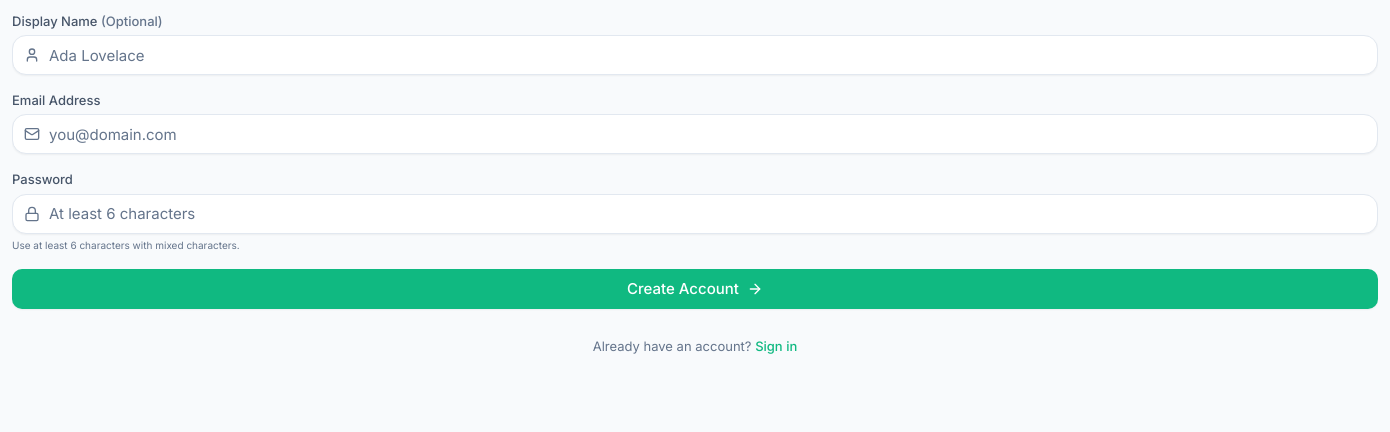
Test: káno̱ Web Authentication & Session Handling › Auth UI Components › renders SignUpForm and validates minimum password length
This screenshot has width=1390, height=432.
Type "test@domain.com" into the field with placeholder "you@domain.com". click: (695, 134)
box: 12,114 -> 1378,154
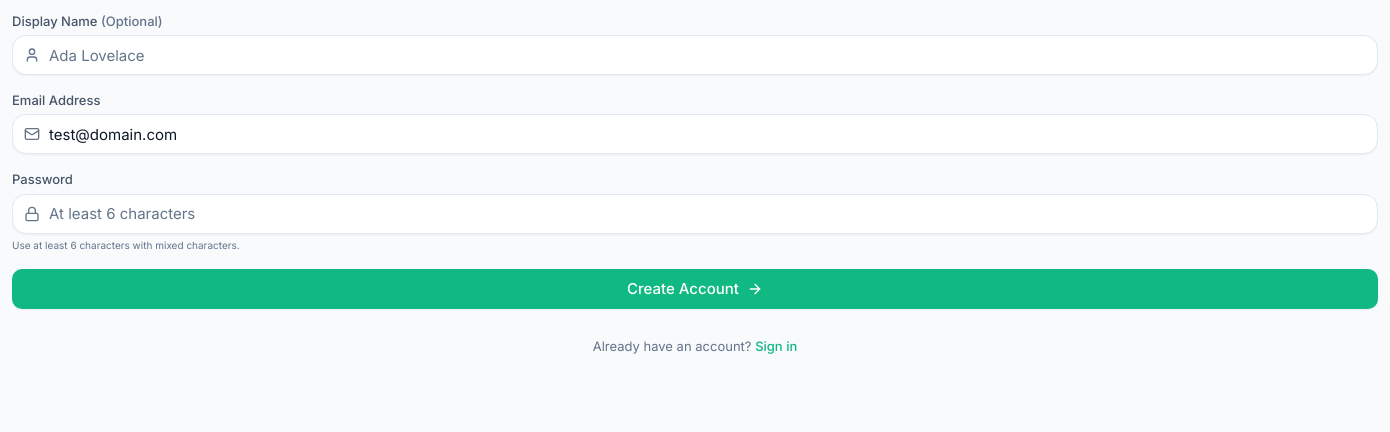
Type "123" into the password field with placeholder "At least 6 characters". click: (695, 214)
box: 12,194 -> 1378,234
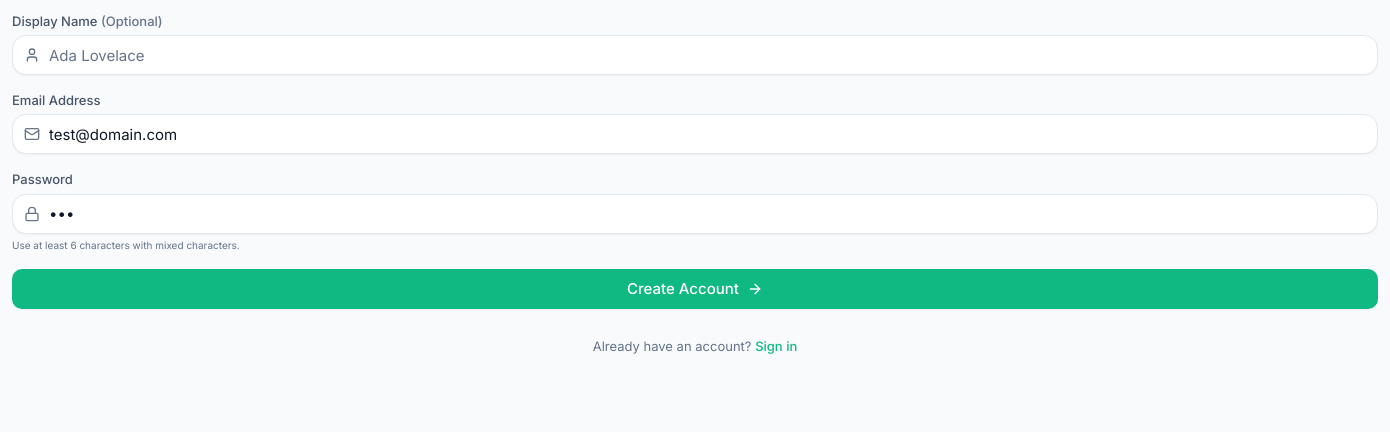
Click the button "Create Account". click: (695, 289)
box: 12,269 -> 1378,309
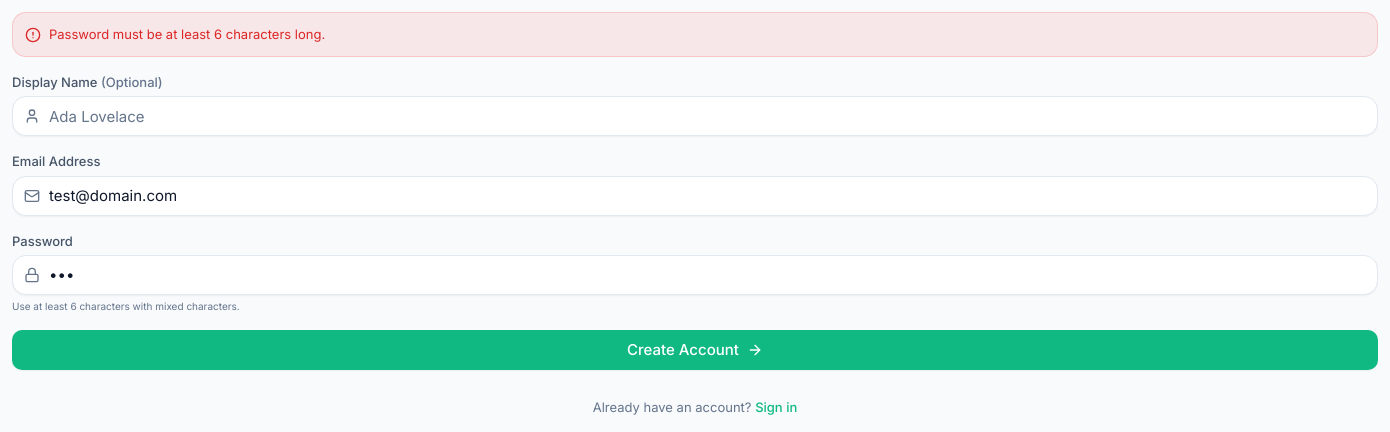
Now the message "Password must be at least 6 characters long." is shown, box 12,12 -> 1378,57
Now the text "Password must be at least 6 characters long." is shown, box 49,26 -> 325,42
